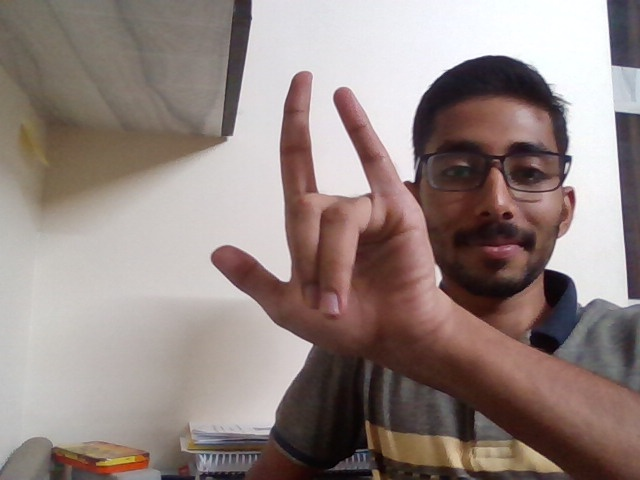Enjoy: (195, 53, 455, 395)
